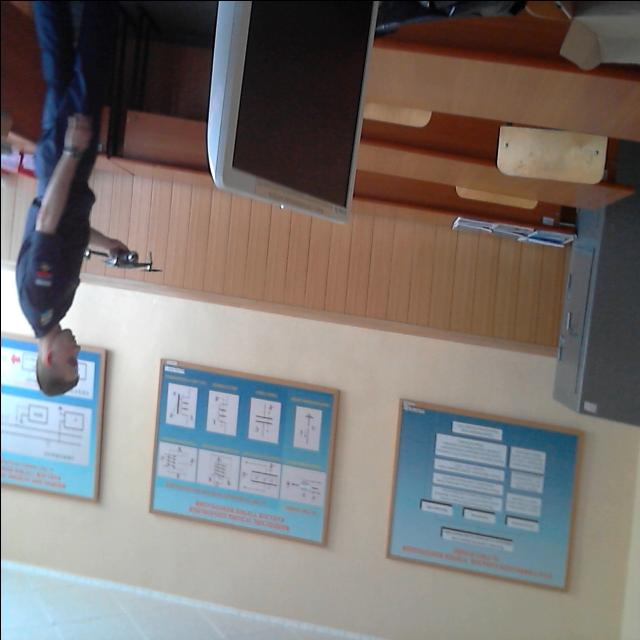drone: (69, 228, 165, 290)
